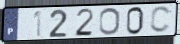0: (126, 6, 147, 35)
1: (33, 10, 43, 37)
2: (74, 7, 95, 37), (49, 7, 69, 38)
C: (149, 5, 173, 34)
O: (98, 7, 121, 36)
